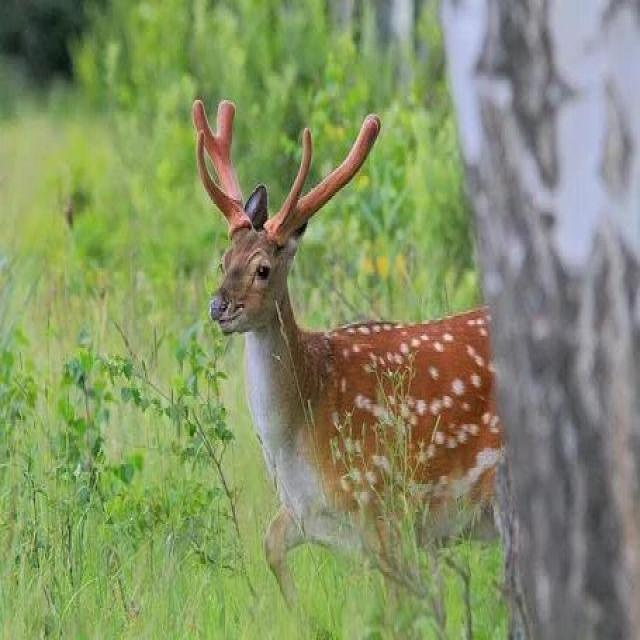deer: (167, 83, 604, 593)
